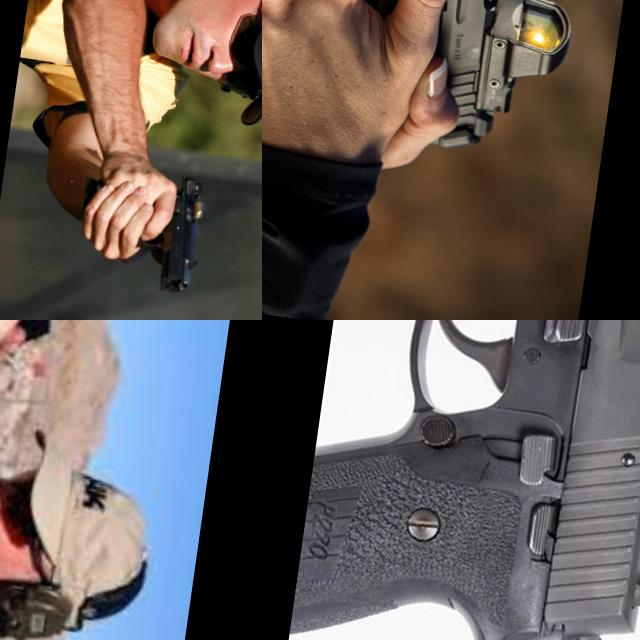handgun: (285, 320, 640, 640), (306, 0, 608, 199), (130, 170, 210, 300), (0, 320, 79, 410)
